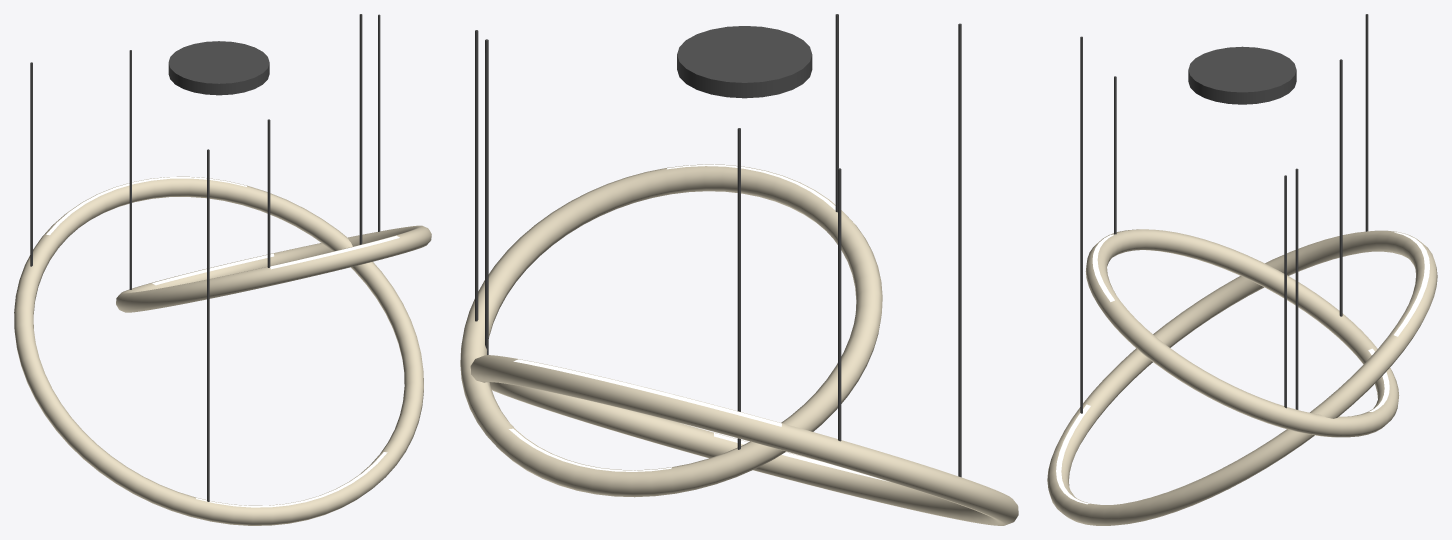
Rendered from it_pendant_ring.glb.
3 renders of one model, left to right at view 1: azimuth 30°, elevation 25°; view 2: azimuth 150°, elevation 25°; view 3: azimuth 270°, elevation 25°, orthographic. The views are drawn at different scales.
Visible parts, largest first — view 1: trim0, trim1, canopy, ring0, cord.002, cord, ring1, cord.004, cord.003, cord.001, cord.005; view 2: trim1, trim0, canopy, cord.002, ring0, cord, cord.004, cord.003, cord.001, ring1, cord.005; view 3: trim0, trim1, canopy, ring0, cord.002, cord.004, cord, cord.001, cord.003, ring1, cord.005.
Part boxes in pixels (<box>): trim0: <box>14,176,423,525</box>; trim1: <box>116,225,431,312</box>; canopy: <box>168,41,269,95</box>; ring0: <box>46,177,387,507</box>; cord.002: <box>207,149,209,501</box>; cord: <box>359,14,362,244</box>; ring1: <box>152,235,399,285</box>; cord.004: <box>129,50,131,289</box>; cord.003: <box>378,14,380,231</box>; cord.001: <box>30,62,32,266</box>; cord.005: <box>267,119,270,267</box>; trim1: <box>460,164,882,497</box>; trim0: <box>470,355,1018,525</box>; canopy: <box>677,26,812,98</box>; cord.002: <box>958,23,961,477</box>; ring0: <box>513,359,888,481</box>; cord: <box>485,39,488,354</box>; cord.004: <box>737,128,740,449</box>; cord.003: <box>475,30,478,321</box>; cord.001: <box>838,168,841,441</box>; ring1: <box>509,164,835,471</box>; cord.005: <box>835,14,838,212</box>; trim0: <box>1047,230,1437,525</box>; trim1: <box>1085,229,1399,437</box>; canopy: <box>1188,46,1296,104</box>; ring0: <box>1056,232,1429,504</box>; cord.002: <box>1080,36,1082,413</box>; cord.004: <box>1339,59,1342,316</box>; cord: <box>1295,168,1298,409</box>; cord.001: <box>1365,14,1368,231</box>; cord.003: <box>1284,175,1286,408</box>; ring1: <box>1092,234,1389,411</box>; cord.005: <box>1114,76,1116,234</box>.
Size of the model in its own units: 0.692 by 0.6868 by 0.5775.
